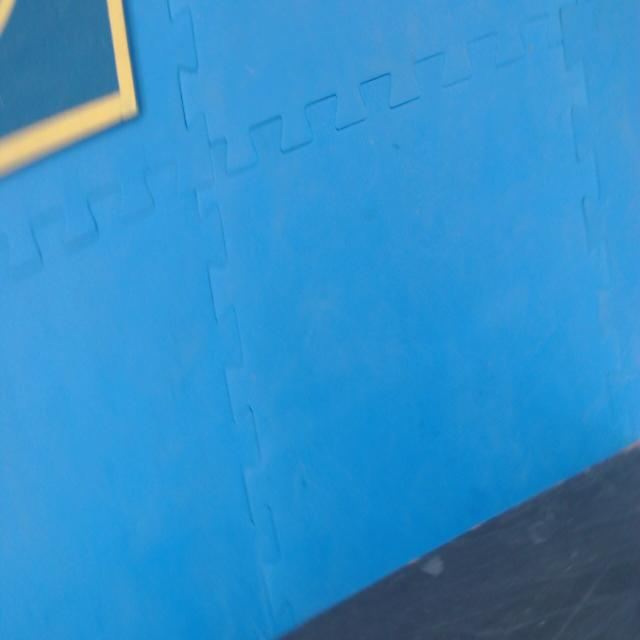base_pouso: (0, 0, 138, 174)
